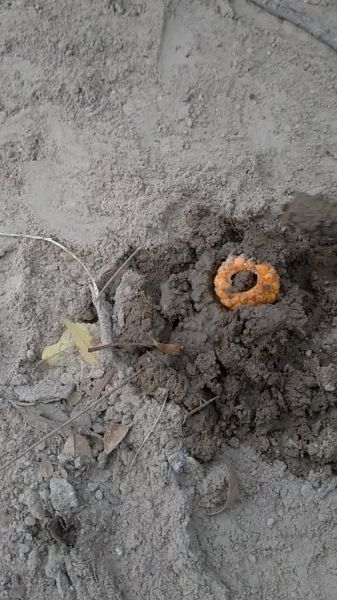eggs: (211, 248, 283, 316)
